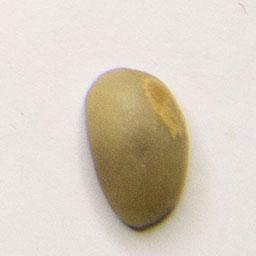longberry: (81, 63, 193, 236)
